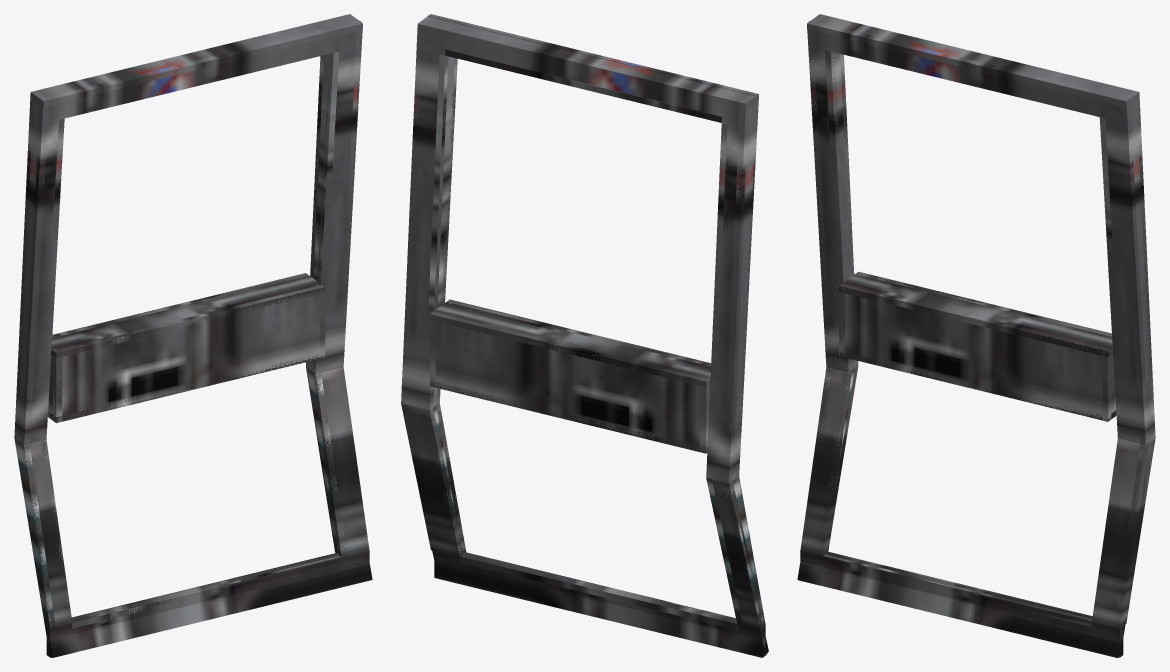
The model's file is tramDoor.obj.
The picture shows the model from 3 angles, left to right: view 1: azimuth 30°, elevation 25°; view 2: azimuth 150°, elevation 25°; view 3: azimuth 330°, elevation 25°; orthographic projection. The views are drawn at different scales.
Parts seen in each view (by area): view 1: TramDoor36, TramDoor8, TramDoor10, TramDoor3, TramDoor6, TramDoor9, TramDoor15, TramDoor30, TramDoor31, TramDoor5, TramDoor4, TramDoor17 (+11 smaller); view 2: TramDoor21, TramDoor13, TramDoor12, TramDoor15, TramDoor4, TramDoor11, TramDoor31, TramDoor2, TramDoor17, TramDoor30, TramDoor3, TramDoor7 (+13 smaller); view 3: TramDoor36, TramDoor8, TramDoor10, TramDoor3, TramDoor15, TramDoor9, TramDoor6, TramDoor30, TramDoor5, TramDoor4, TramDoor22, TramDoor28 (+11 smaller).
Part boxes in pixels (<box>): TramDoor36: <box>53,285,324,422</box>; TramDoor8: <box>312,20,362,373</box>; TramDoor10: <box>22,93,65,444</box>; TramDoor3: <box>71,553,372,652</box>; TramDoor6: <box>312,367,369,556</box>; TramDoor9: <box>63,27,334,118</box>; TramDoor15: <box>51,273,325,358</box>; TramDoor30: <box>30,15,362,107</box>; TramDoor31: <box>14,91,48,444</box>; TramDoor5: <box>23,439,72,627</box>; TramDoor4: <box>46,550,369,657</box>; TramDoor17: <box>313,51,339,282</box>; TramDoor21: <box>430,315,709,452</box>; TramDoor13: <box>401,24,448,410</box>; TramDoor12: <box>706,98,748,483</box>; TramDoor15: <box>430,299,710,387</box>; TramDoor4: <box>434,552,765,657</box>; TramDoor11: <box>445,31,722,116</box>; TramDoor31: <box>726,95,758,482</box>; TramDoor2: <box>401,403,462,556</box>; TramDoor17: <box>428,54,457,310</box>; TramDoor30: <box>418,17,758,109</box>; TramDoor3: <box>432,550,739,634</box>; TramDoor7: <box>712,479,768,655</box>; TramDoor36: <box>839,286,1111,420</box>; TramDoor8: <box>1099,92,1148,444</box>; TramDoor10: <box>807,20,851,372</box>; TramDoor3: <box>820,551,1125,657</box>; TramDoor15: <box>839,272,1112,357</box>; TramDoor9: <box>829,26,1101,116</box>; TramDoor6: <box>1092,438,1148,628</box>; TramDoor30: <box>807,14,1138,107</box>; TramDoor5: <box>800,367,851,555</box>; TramDoor4: <box>800,550,1123,657</box>; TramDoor22: <box>1121,91,1155,444</box>; TramDoor28: <box>825,50,853,281</box>.
Size of the model in its own units: 57 by 94.1 by 11.95.
